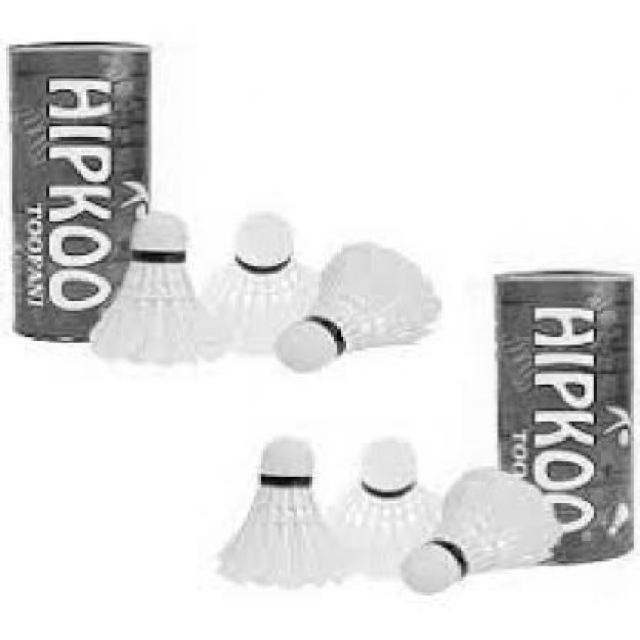Shuttlecock: (210, 436, 502, 590), (202, 215, 443, 372)
